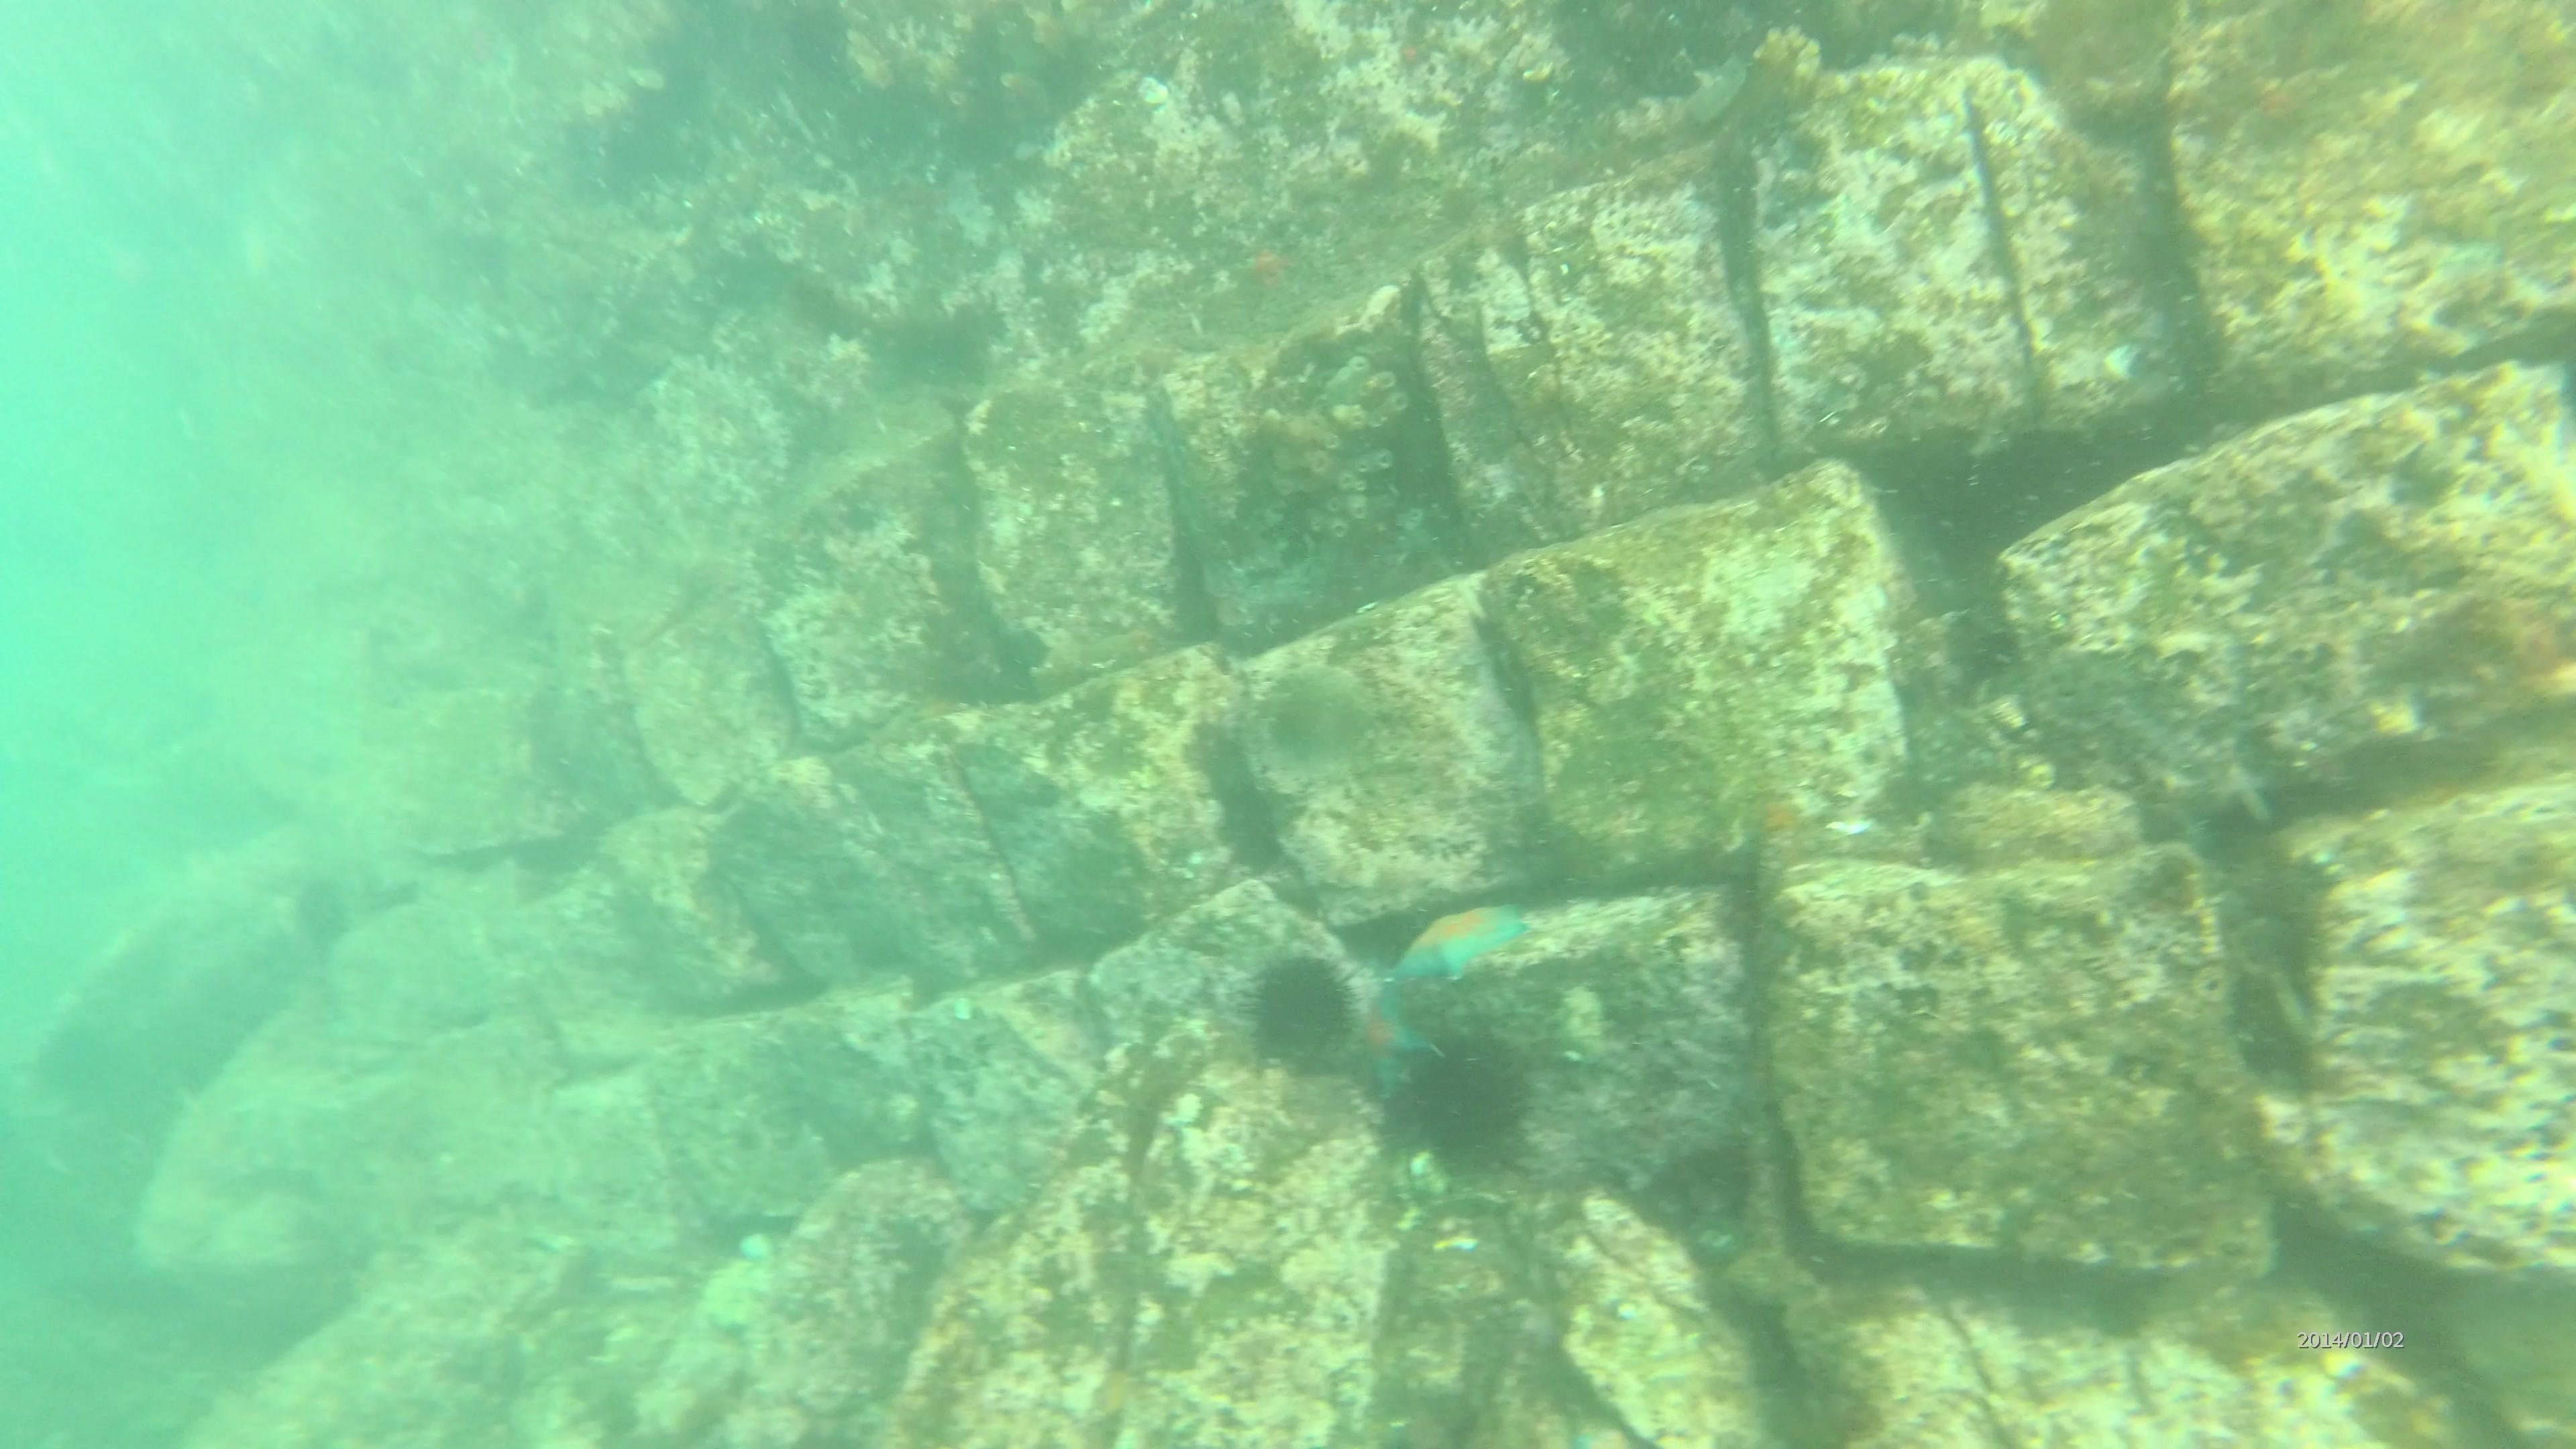echinus: (1391, 1024, 1543, 1177), (1237, 947, 1361, 1074), (283, 865, 361, 957)
starfish: (1385, 893, 1536, 991), (1332, 984, 1435, 1099)
